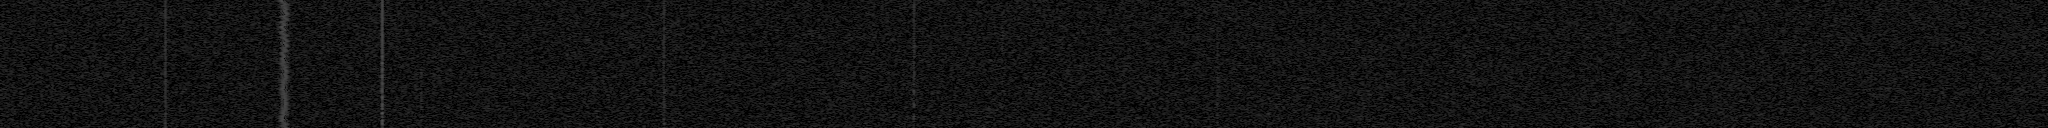wv_am: (379, 0, 385, 128), (1215, 0, 1220, 128), (910, 0, 917, 86), (662, 0, 666, 118), (910, 97, 917, 108), (910, 112, 917, 121), (910, 88, 917, 97), (661, 118, 667, 125), (912, 125, 916, 128)
wv_cw: (163, 0, 168, 128)
wv_lsb: (1000, 3, 1004, 43), (1000, 80, 1004, 95), (1000, 55, 1004, 68), (1000, 69, 1004, 78), (1000, 107, 1004, 115), (1000, 118, 1004, 123), (1000, 48, 1004, 54), (1000, 124, 1004, 128), (1000, 101, 1004, 104), (1000, 44, 1004, 47)
wv_usb: (419, 59, 423, 110), (419, 111, 423, 128), (419, 3, 423, 13), (419, 29, 423, 39), (419, 17, 423, 25), (419, 52, 423, 57), (421, 47, 423, 51), (421, 42, 423, 46)
wv_wbfm: (276, 0, 293, 128)
